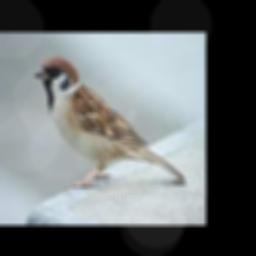Sparrow: (34, 55, 185, 187)
